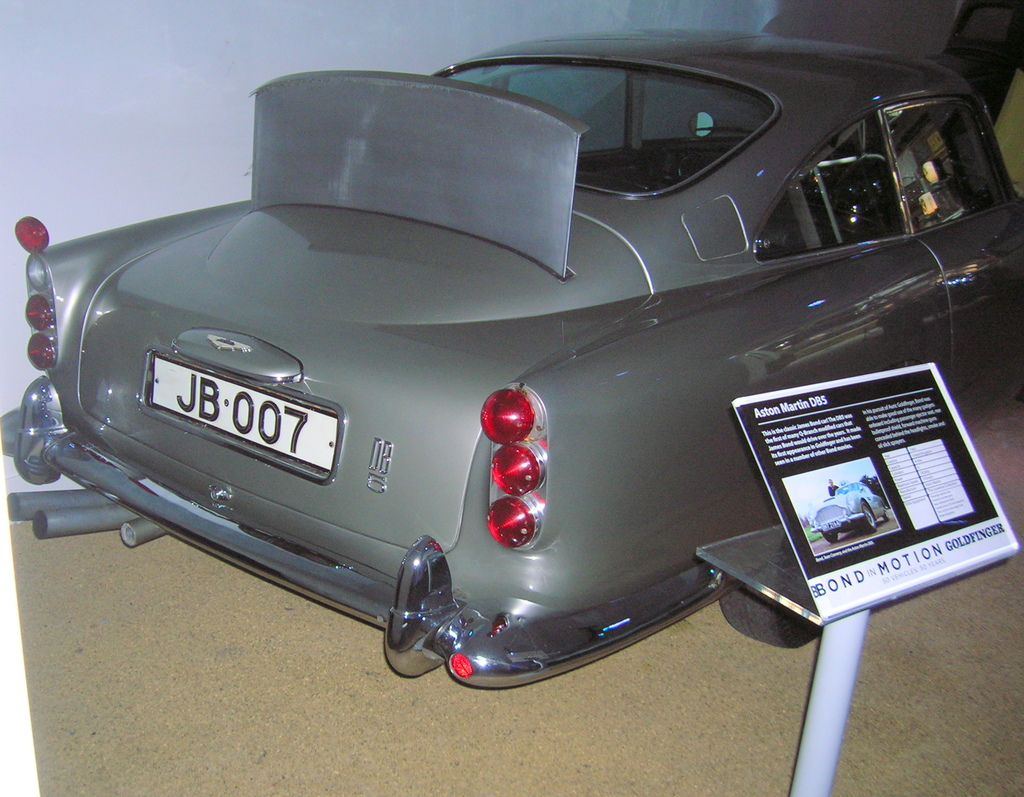mobil: (68, 68, 1017, 695)
